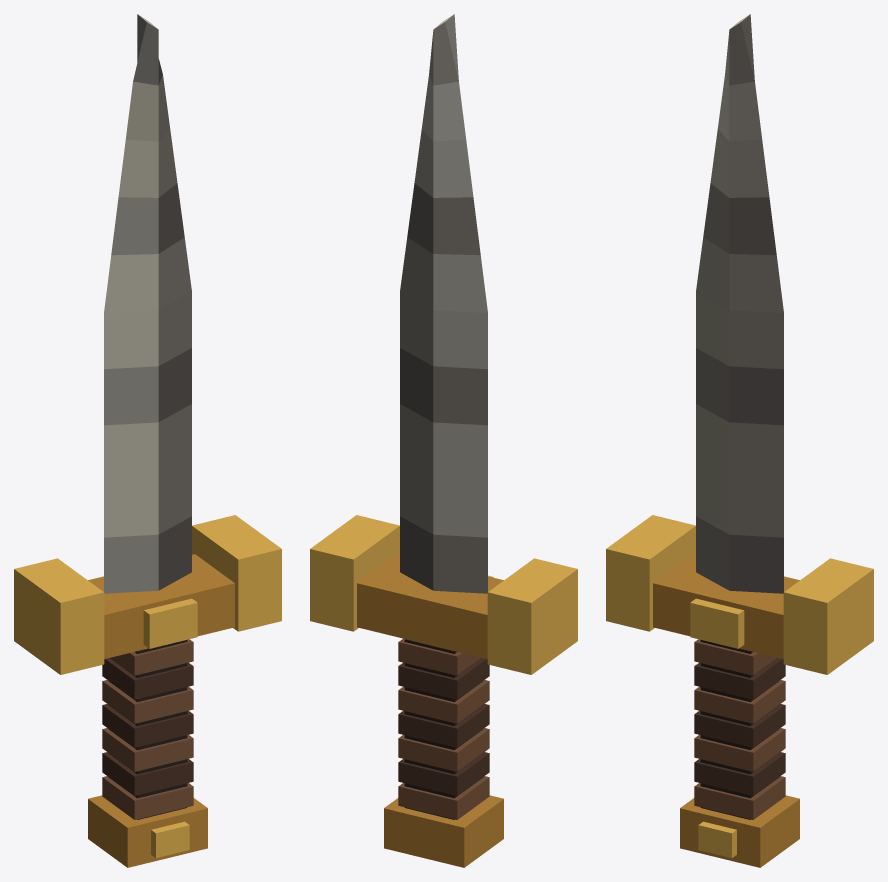
File: ShortSword.glb
3 renders of one model, left to right at view 1: azimuth 30°, elevation 25°; view 2: azimuth 150°, elevation 25°; view 3: azimuth 330°, elevation 25°, orthographic.
Visible parts, largest first — view 1: ShortSword_Mesh; view 2: ShortSword_Mesh; view 3: ShortSword_Mesh.
Part boxes in pixels (bbox=[...]): ShortSword_Mesh: bbox=[14, 14, 281, 867]; ShortSword_Mesh: bbox=[310, 14, 577, 867]; ShortSword_Mesh: bbox=[606, 14, 873, 867].
Bounding box in the file's own units: 0.289 × 1.03 × 0.1105.
1 material, 1 textured.
